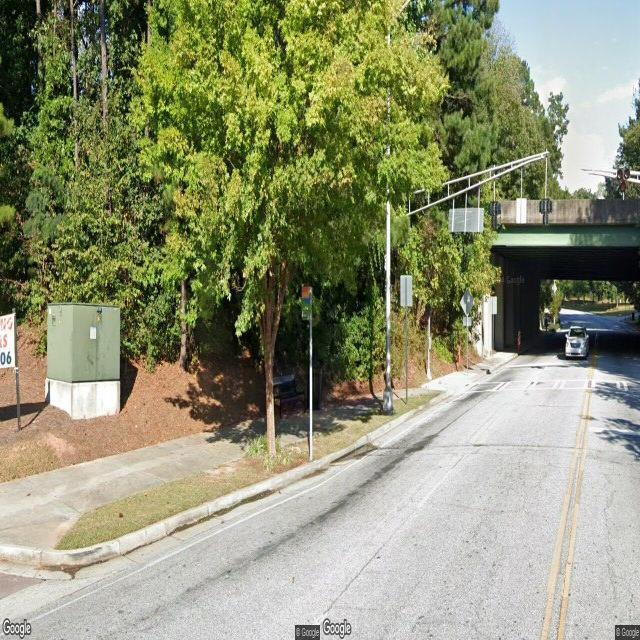seating: (272, 372, 306, 419)
trash_can: (308, 366, 323, 410)
